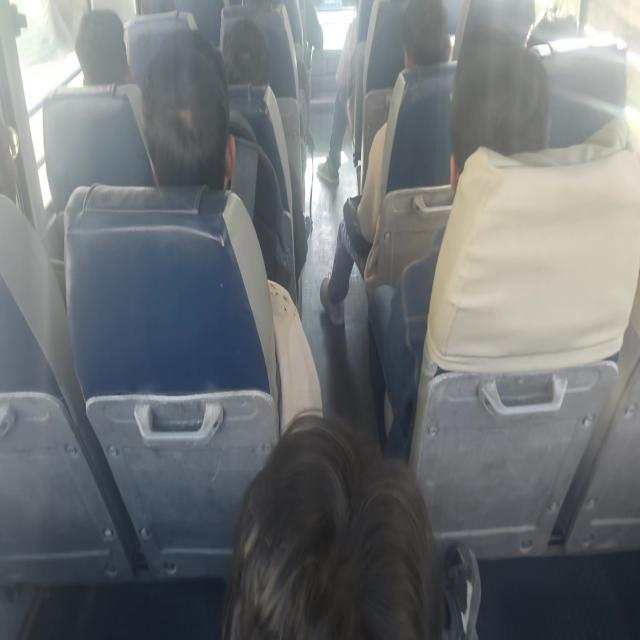person: (366, 23, 551, 461), (222, 410, 480, 639), (140, 28, 298, 307), (319, 0, 453, 325), (316, 0, 404, 186), (141, 28, 236, 190), (316, 15, 359, 185), (75, 8, 133, 86), (222, 16, 270, 86)
